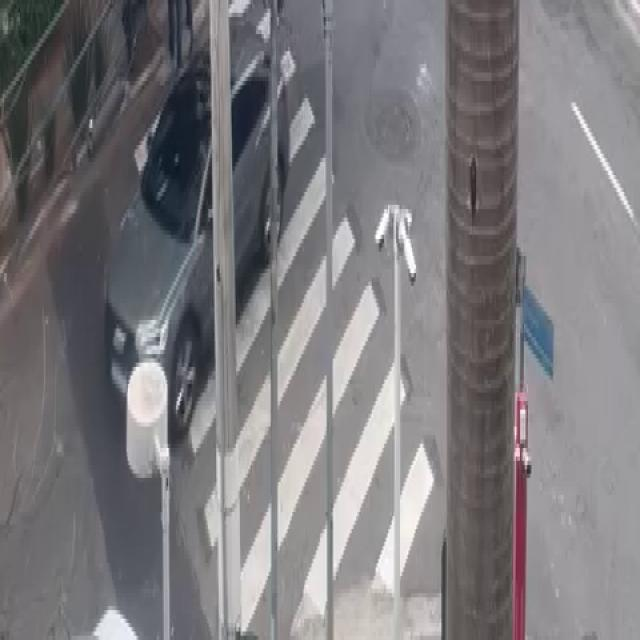car: (100, 24, 292, 431)
